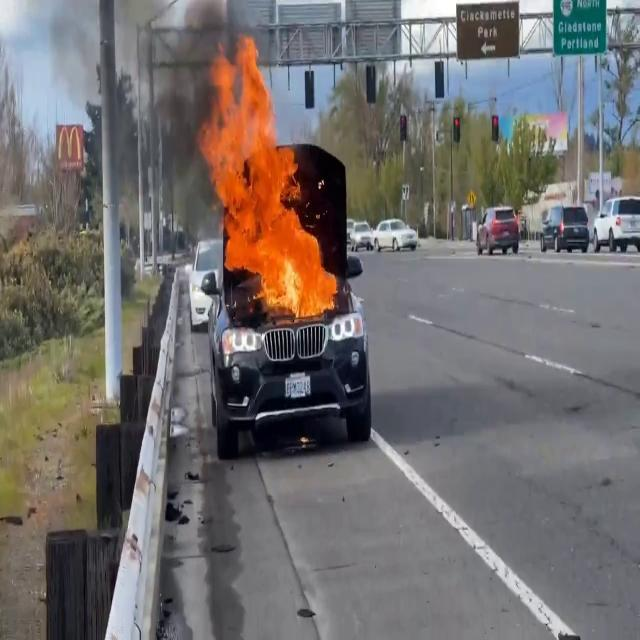Fire: (199, 32, 340, 322)
Smoke: (131, 1, 227, 240)
